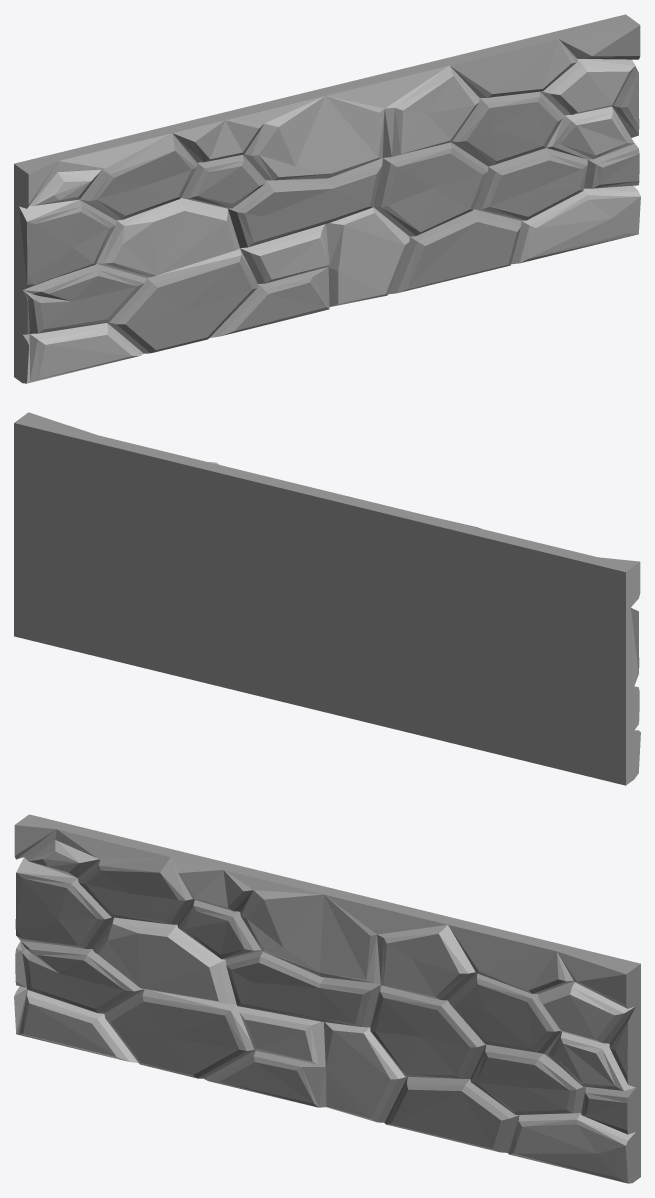
The model's file is _FOUNDATION_01_1.fbx.
The picture shows the model from 3 angles, top to bottom: view 1: azimuth 30°, elevation 25°; view 2: azimuth 150°, elevation 25°; view 3: azimuth 330°, elevation 25°; orthographic projection.
Parts seen in each view (by area): view 1: FOUNDATION_01_1; view 2: FOUNDATION_01_1; view 3: FOUNDATION_01_1.
Part boxes in pixels (x1,y1,x2,y2): FOUNDATION_01_1: (14, 14, 640, 383); FOUNDATION_01_1: (14, 412, 640, 785); FOUNDATION_01_1: (14, 814, 640, 1183).
Size of the model in its own units: 300 by 100 by 13.97.
